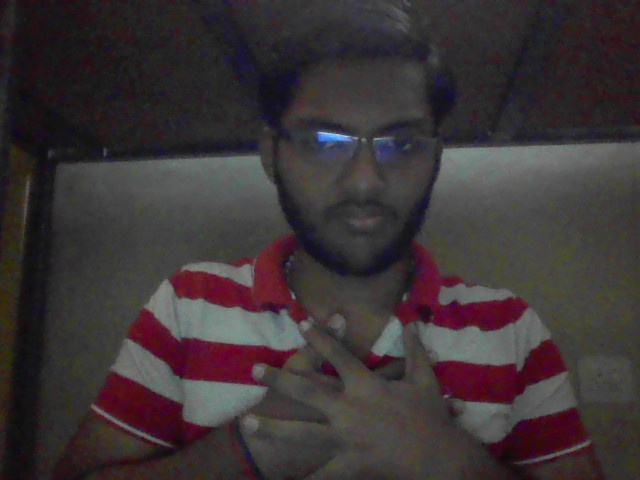Yes_Hungry: (240, 300, 505, 480)
